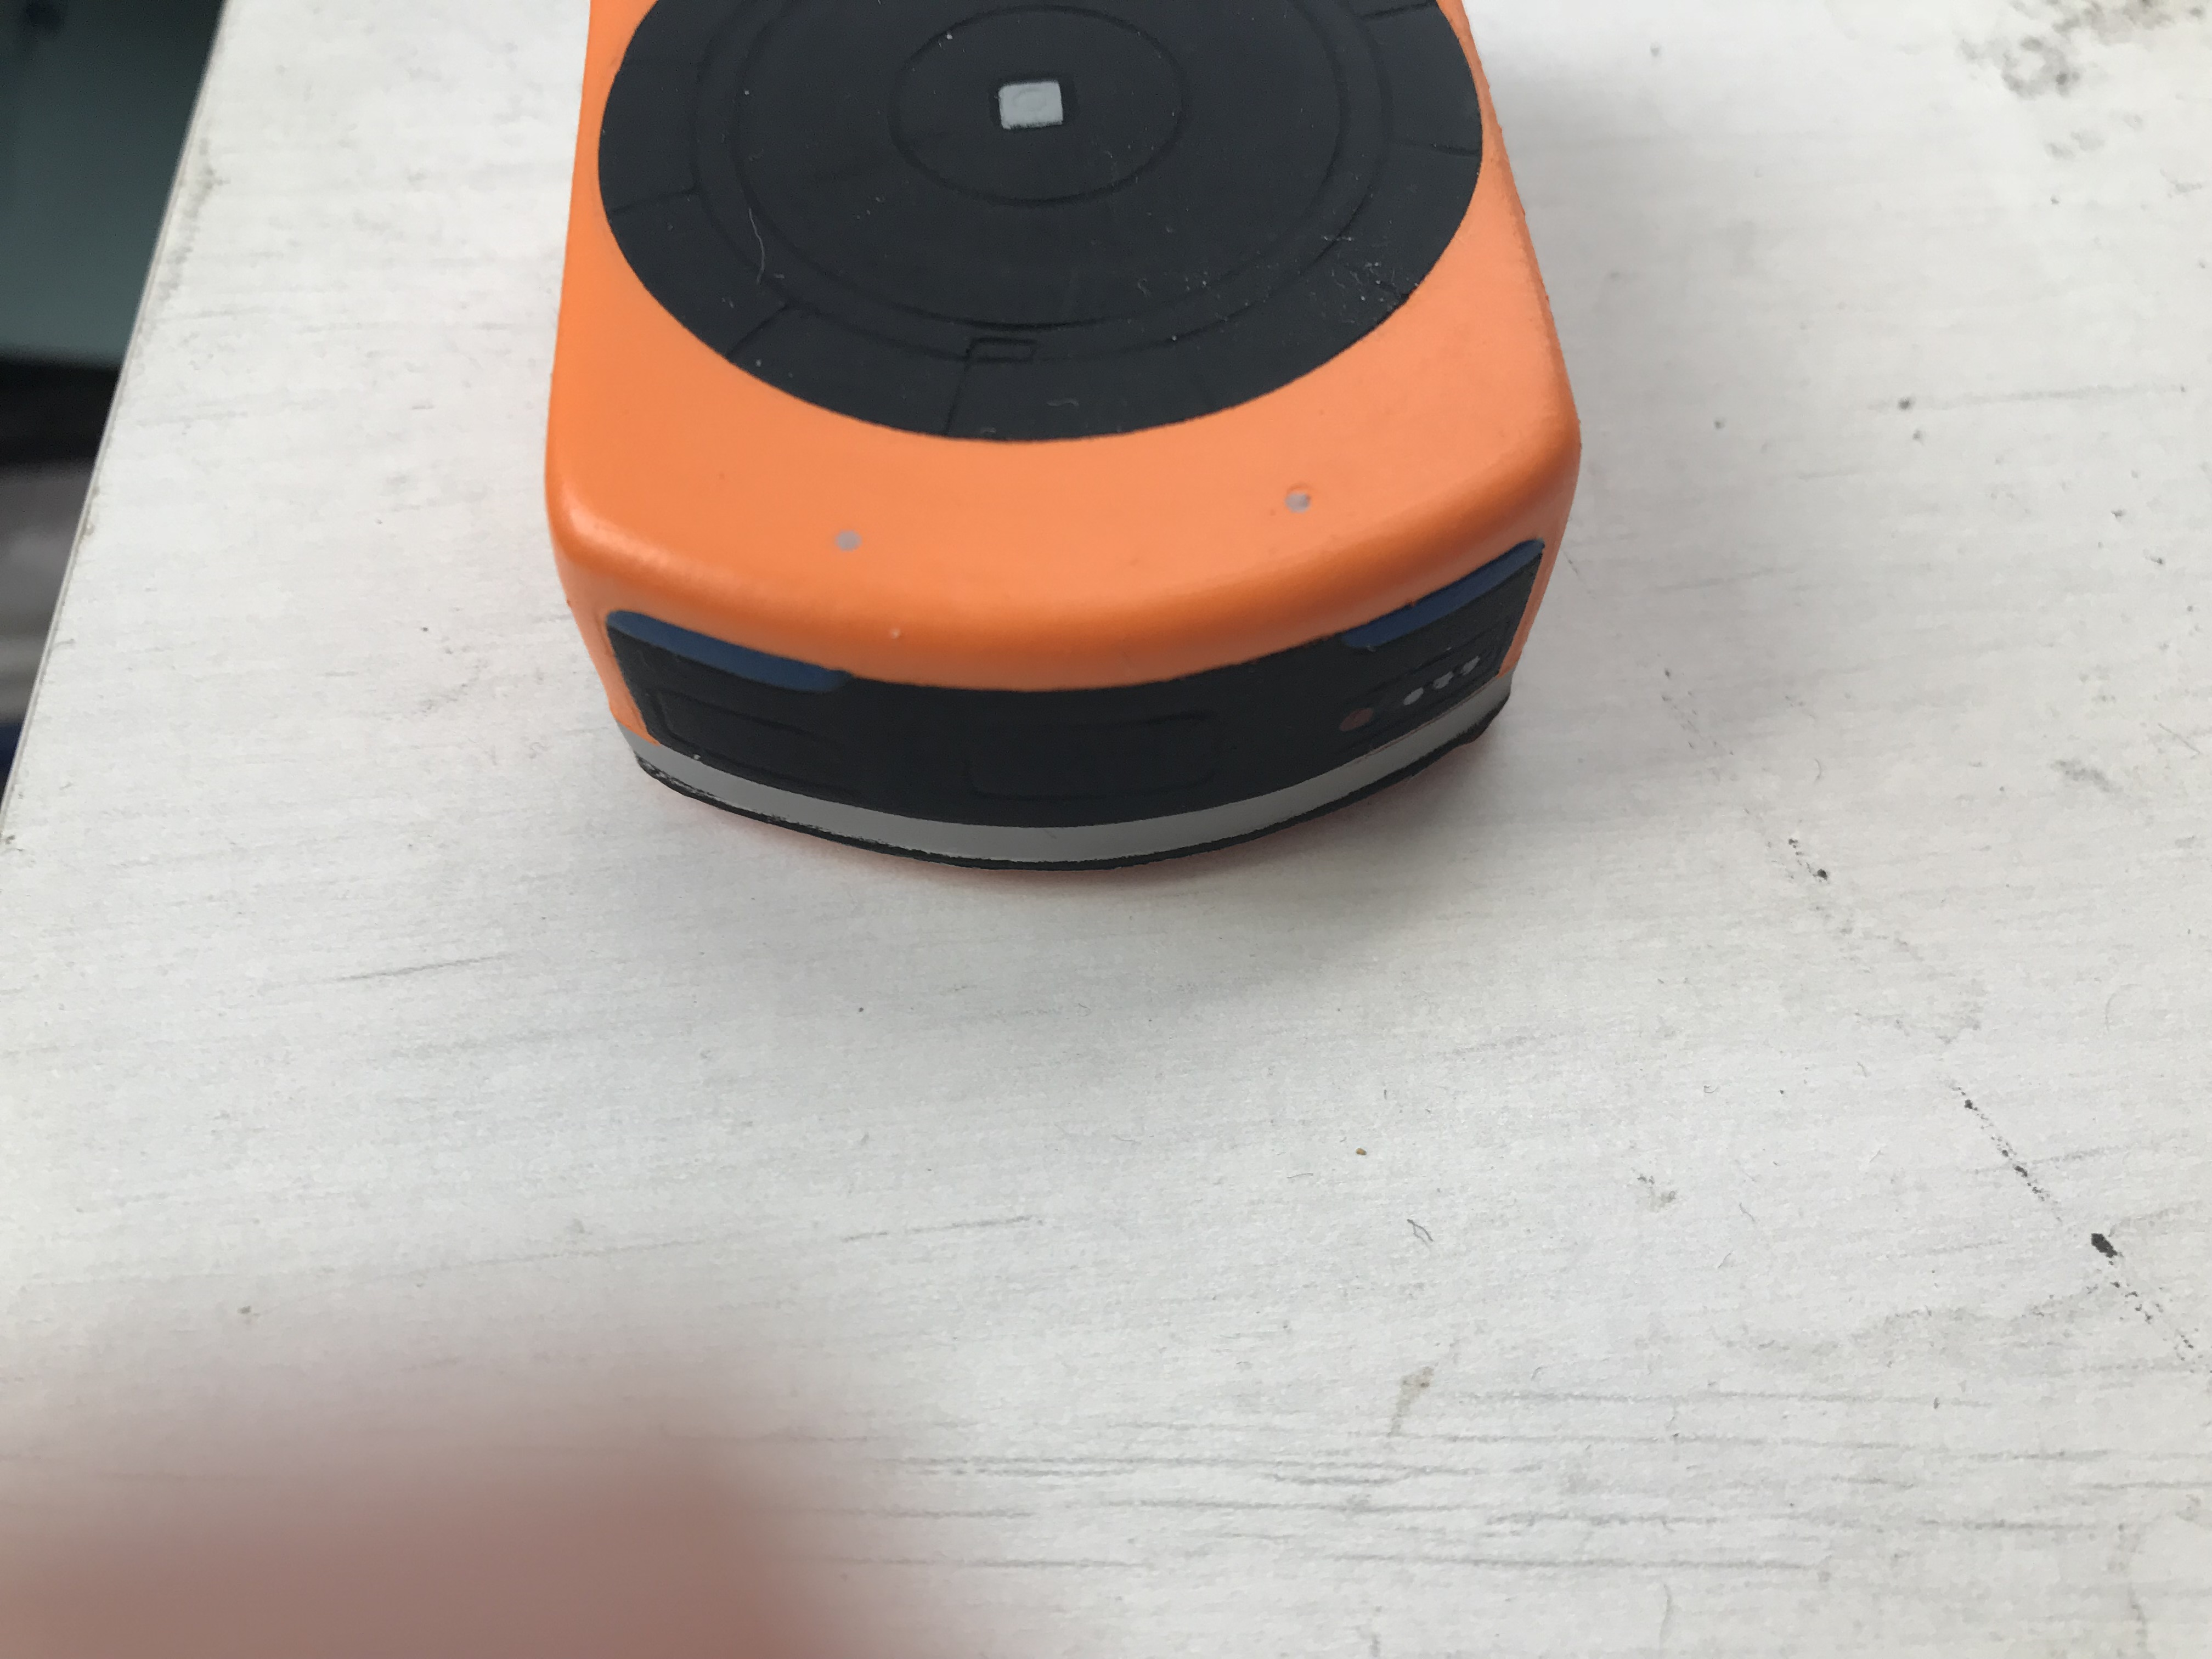amazon_bot: (474, 14, 1656, 924)
